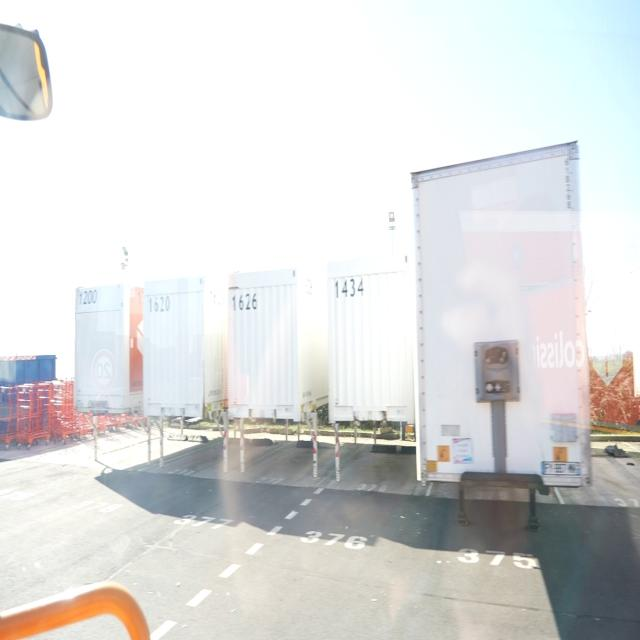Code: (144, 288, 177, 325), (331, 274, 368, 303), (226, 287, 264, 315), (76, 284, 102, 308)
